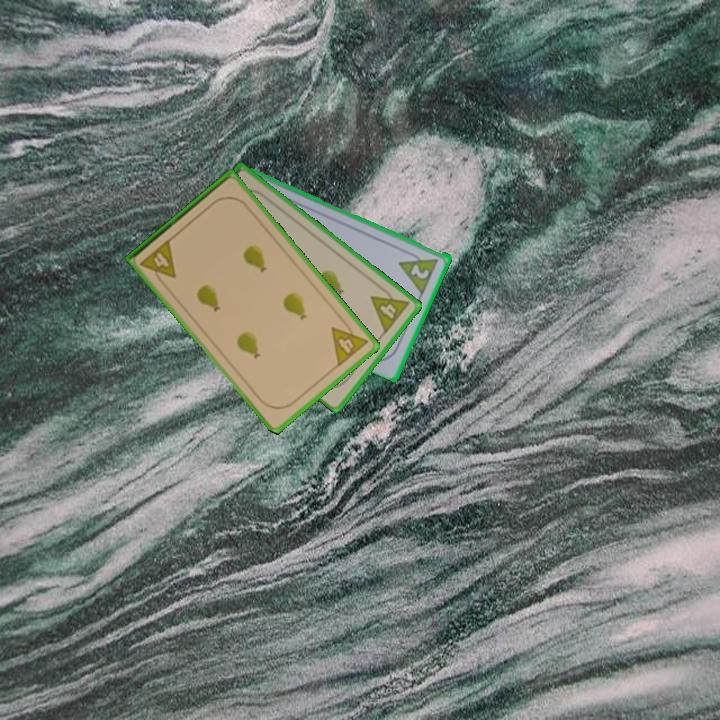2p: (407, 260, 432, 282)
4p: (367, 282, 412, 336), (328, 315, 371, 370), (137, 235, 179, 288)
